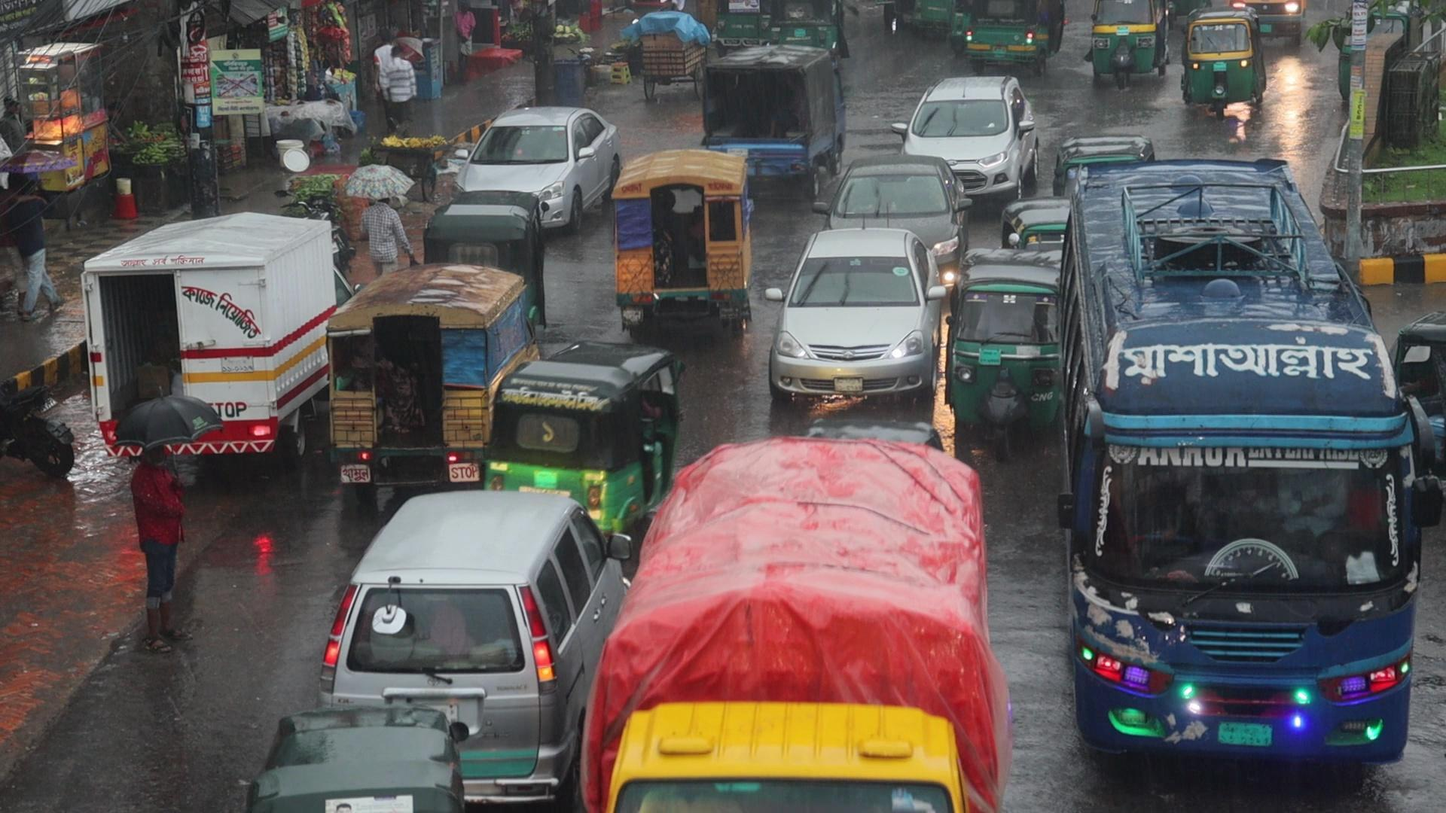Bus: (1057, 145, 1415, 787)
Car: (319, 480, 602, 724), (759, 219, 939, 407), (891, 75, 1039, 162)
Truck: (583, 431, 1000, 813), (323, 259, 501, 458), (608, 144, 754, 335), (698, 42, 849, 147)
